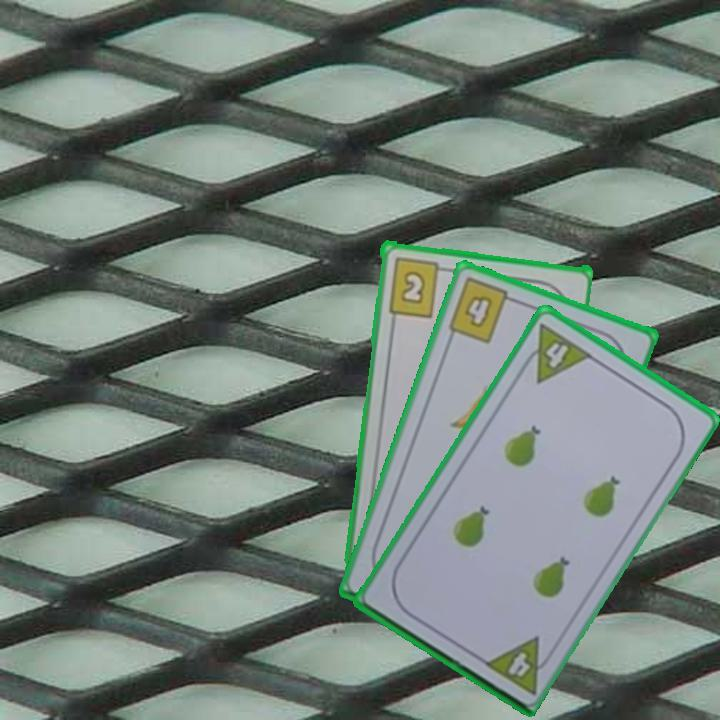2b: (384, 253, 451, 319)
4b: (444, 274, 521, 346)
4p: (515, 319, 595, 386), (479, 633, 558, 697)
